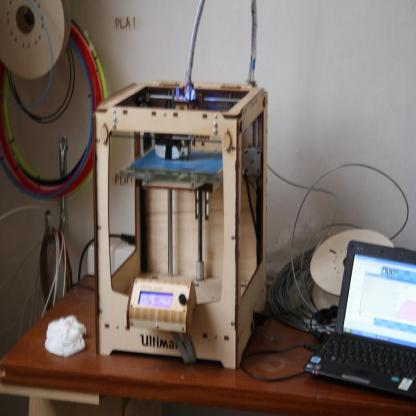board: (304, 239, 416, 404)
